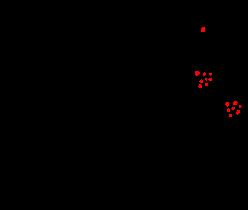Target: (195, 71, 200, 76), (201, 27, 205, 32), (233, 101, 238, 105), (225, 102, 229, 107), (236, 110, 240, 115), (199, 79, 203, 83), (198, 84, 202, 88), (203, 72, 206, 76), (208, 78, 212, 81), (231, 107, 235, 110), (227, 108, 230, 112), (209, 73, 212, 76), (205, 83, 208, 86), (239, 105, 242, 108), (229, 114, 232, 117), (205, 78, 207, 81)
